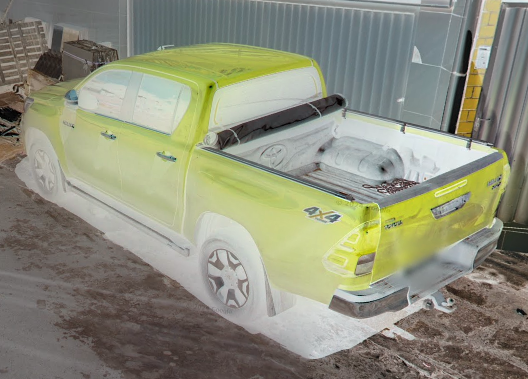car: (16, 43, 508, 333)
